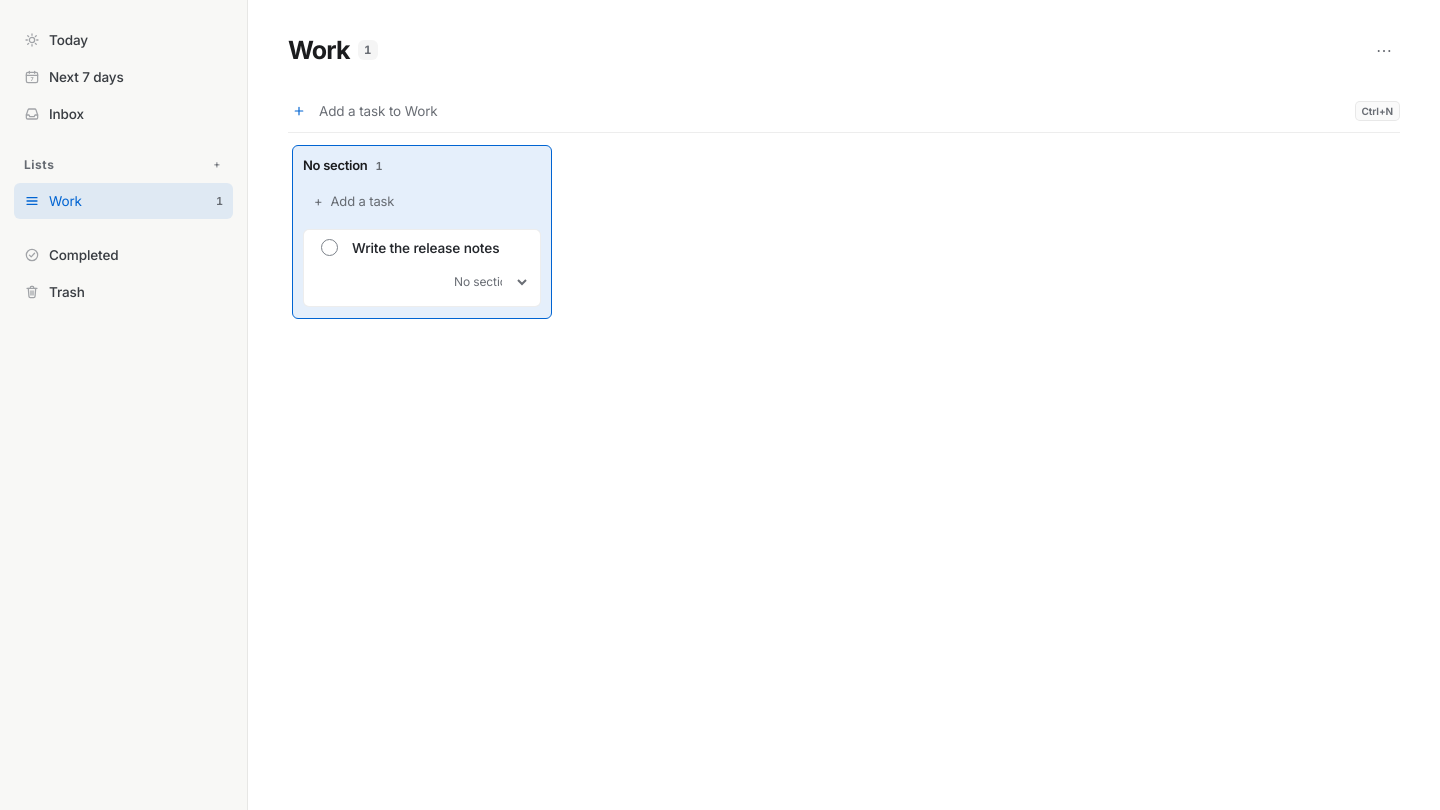
it: the Scope's menu › holds the views as one closed choice, with the current one checked
Click the button named "View and options". click: (1384, 50)
box: [1368,34,1400,66]
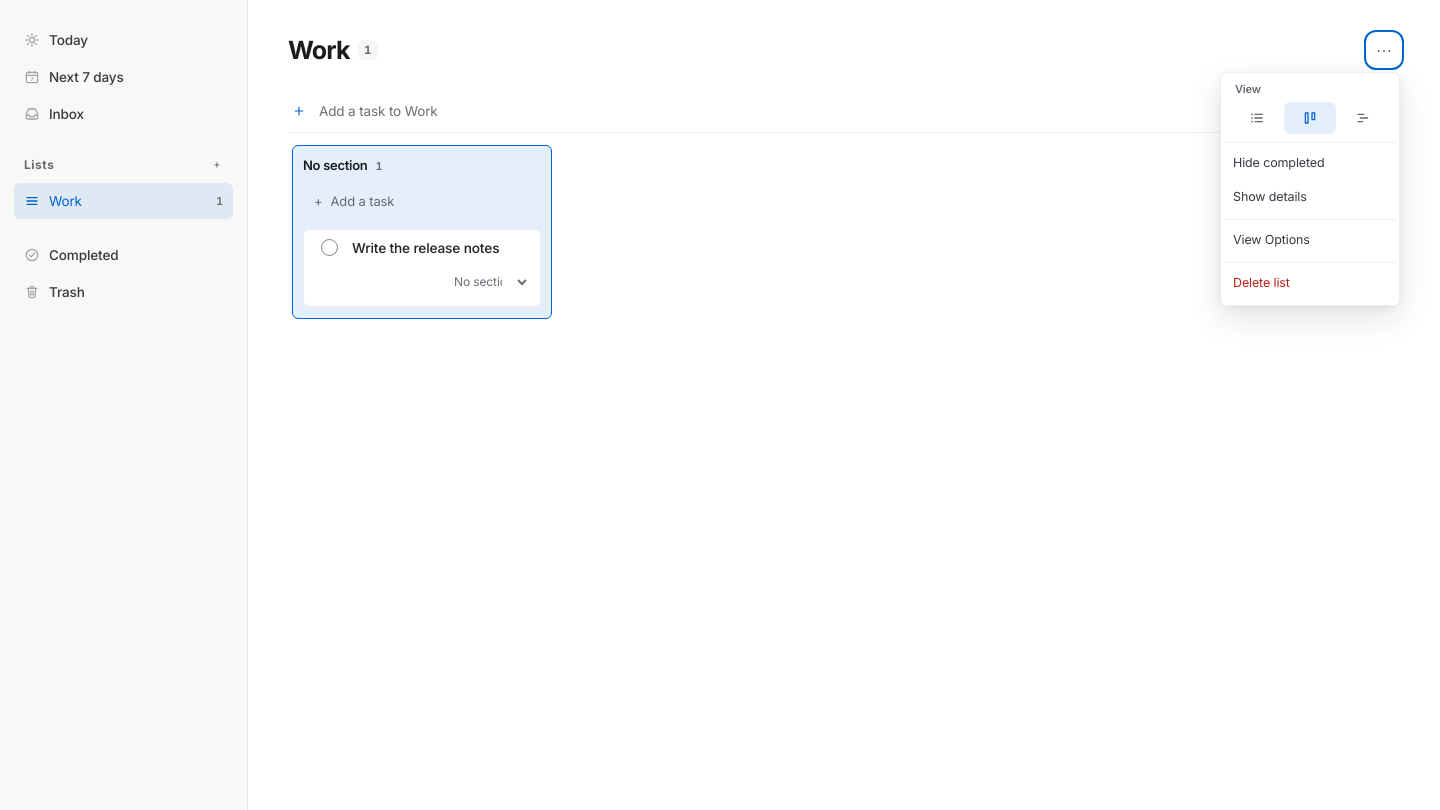
Now the element named "View" is shown, box [1225,100,1395,138]
